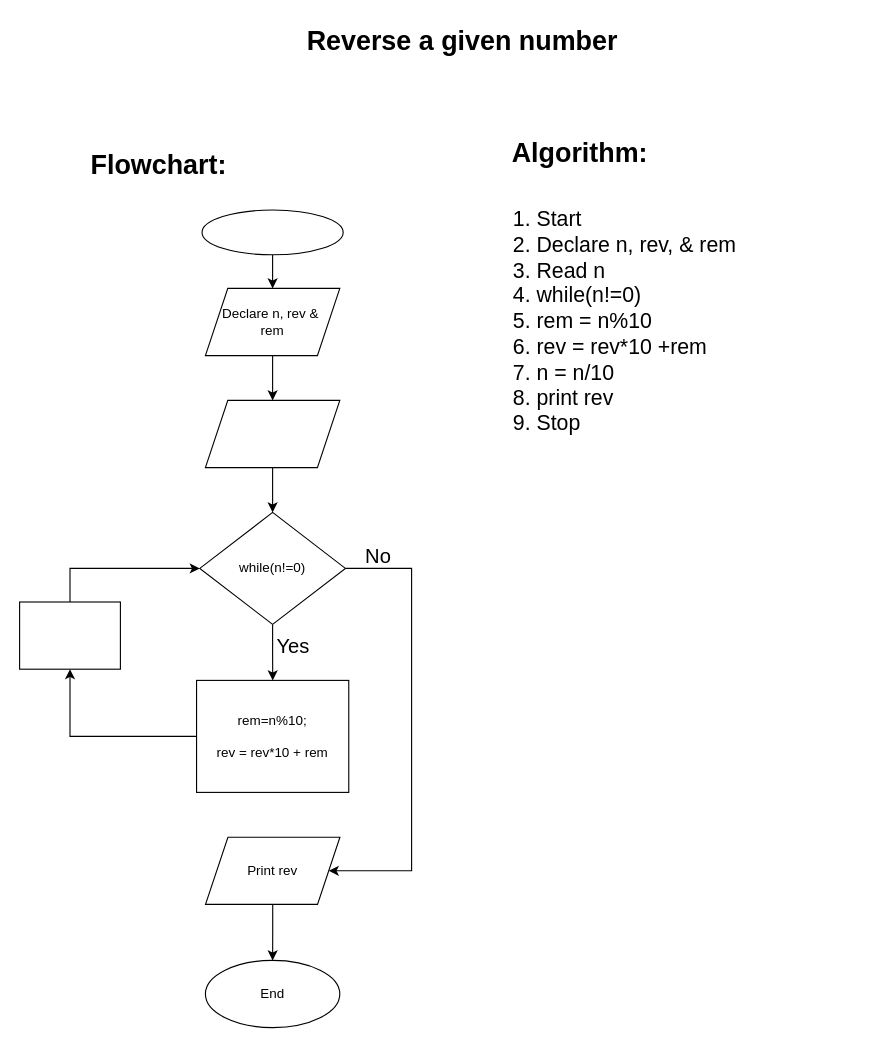
Some shapes in this 890 by 1047 pixel diagram are drawn without their labels. The centre of each missing label's shape, as x and y in pixels:
"n = n/10" goes at (x=69, y=635).
"read n" goes at (x=272, y=433).
"Start" goes at (x=272, y=232).
